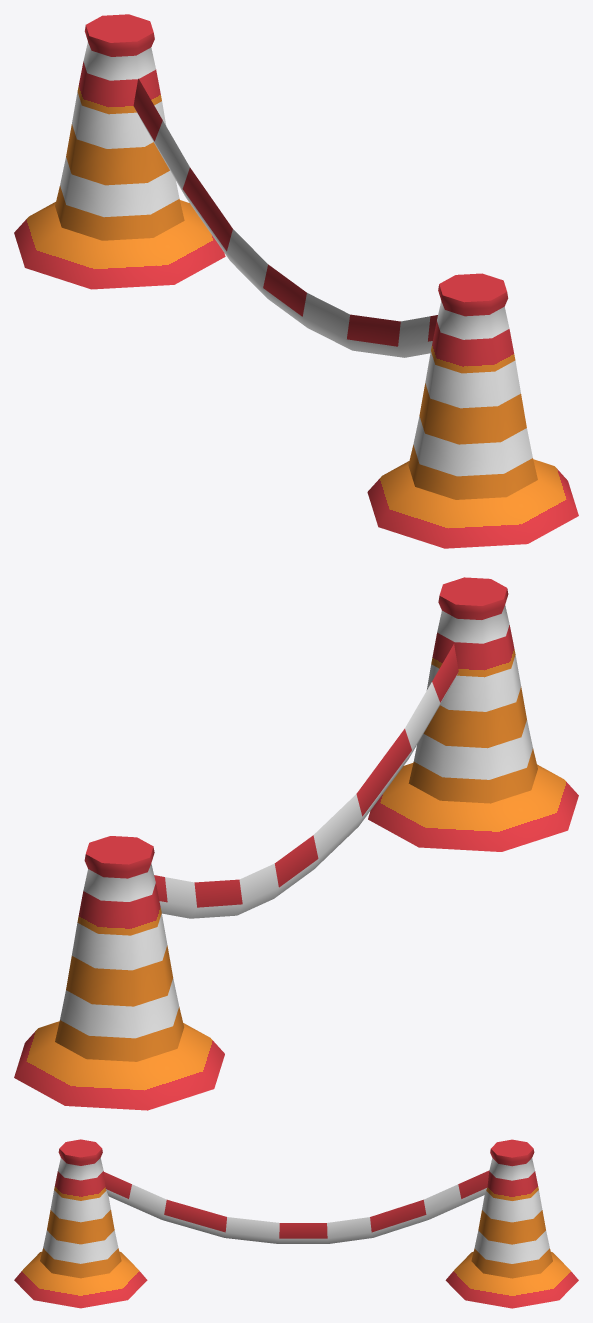
Rendered from Cono_03.fbx.
3 renders of one model, top to bottom at view 1: azimuth 30°, elevation 25°; view 2: azimuth 150°, elevation 25°; view 3: azimuth 270°, elevation 25°, orthographic. The views are drawn at different scales.
Visible parts, largest first — view 1: Cono_03; view 2: Cono_03; view 3: Cono_03.
Part boxes in pixels (bbox=[...]): Cono_03: bbox=[14, 14, 578, 548]; Cono_03: bbox=[14, 577, 578, 1110]; Cono_03: bbox=[14, 1139, 578, 1308].
Bounding box in the file's own units: 140 × 152 × 592.
